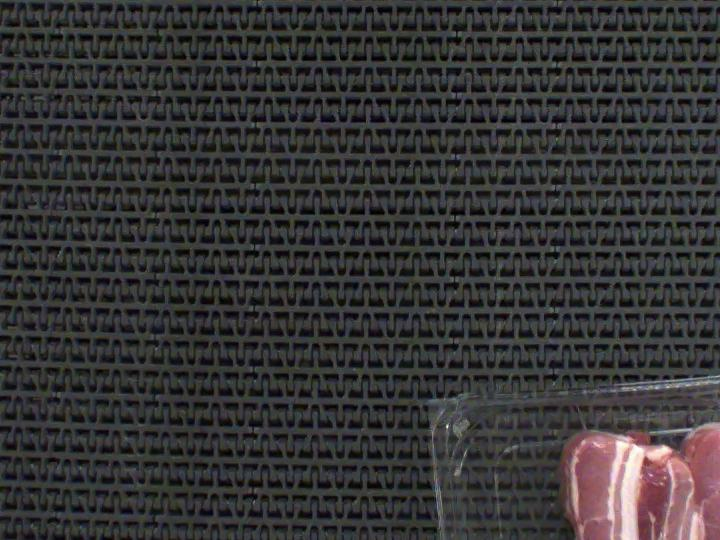packaging-error: (706, 393, 720, 428)
